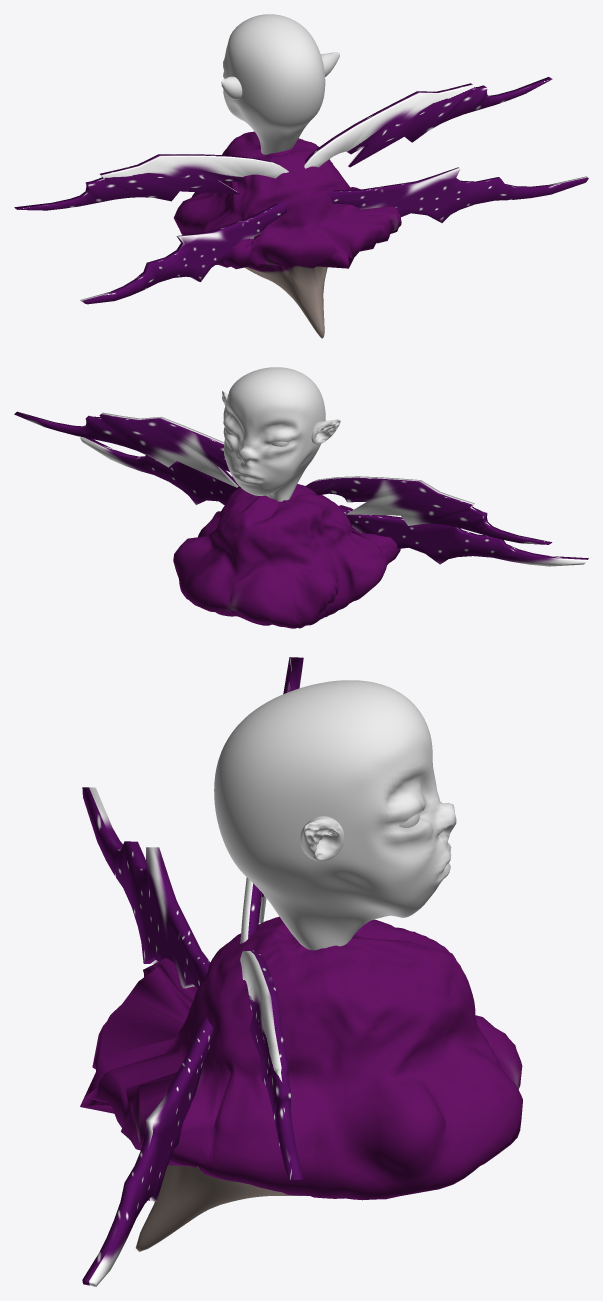
Rendered from Pixie.fbx.
3 renders of one model, top to bottom at view 1: azimuth 30°, elevation 25°; view 2: azimuth 150°, elevation 25°; view 3: azimuth 270°, elevation 25°, orthographic. The views are drawn at different scales.
Parts seen in each view (by area): view 1: Wings, Body, Head, Ears; view 2: Body, Wings, Head, Ears; view 3: Body, Head, Wings, Ears.
Part boxes in pixels (x1=…): Wings: x1=14, y1=77, x2=588, y2=304; Body: x1=174, y1=131, x2=401, y2=338; Head: x1=223, y1=14, x2=325, y2=154; Ears: x1=221, y1=52, x2=339, y2=99; Body: x1=173, y1=484, x2=400, y2=628; Wings: x1=14, y1=411, x2=588, y2=566; Head: x1=223, y1=367, x2=325, y2=501; Ears: x1=222, y1=391, x2=340, y2=444; Body: x1=80, y1=916, x2=522, y2=1251; Head: x1=214, y1=680, x2=456, y2=950; Wings: x1=82, y1=657, x2=303, y2=1286; Ears: x1=300, y1=816, x2=344, y2=860.
Bounding box in the file's own units: 996 × 498 × 357.
Materials: 5 (2 with a texture image).
